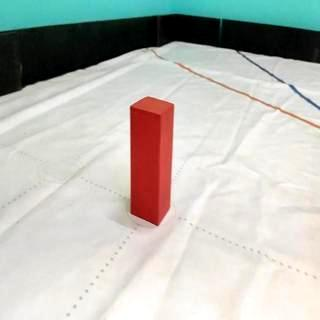redbox: (130, 96, 174, 226)
